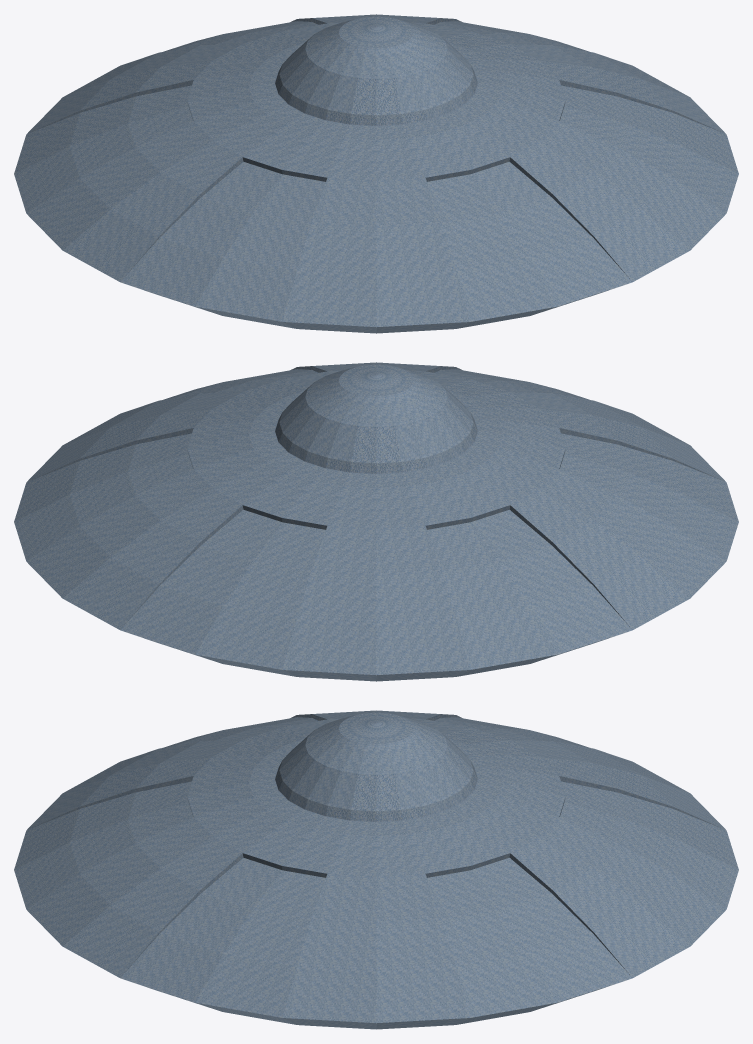
Rendered from soucoupevolantedemarsattack_1-cc.glb.
3 views of the same model, one above another, from view 1: azimuth 30°, elevation 25°; view 2: azimuth 150°, elevation 25°; view 3: azimuth 270°, elevation 25° (orthographic).
Size of the model in its own units: 787 by 291 by 787.
1 material, 1 textured.
